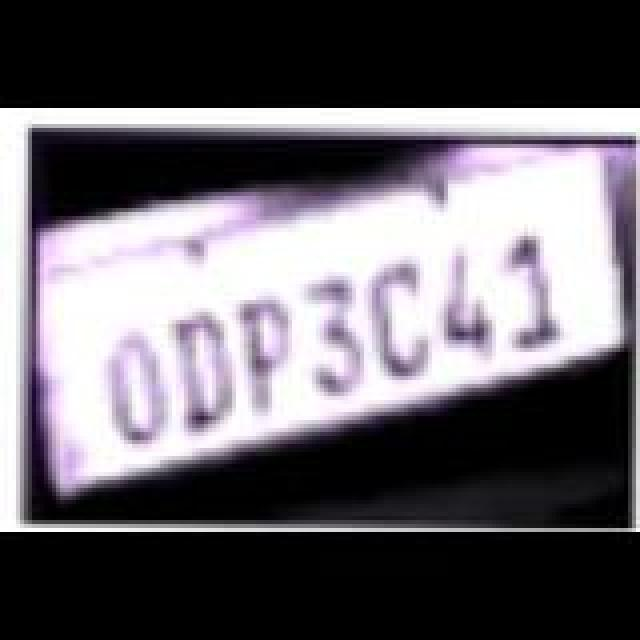1: (486, 228, 578, 356)
3: (288, 276, 384, 404)
4: (420, 248, 508, 368)
C: (356, 256, 452, 384)
D: (156, 312, 252, 440)
O: (94, 326, 186, 450)
P: (220, 294, 316, 418)
